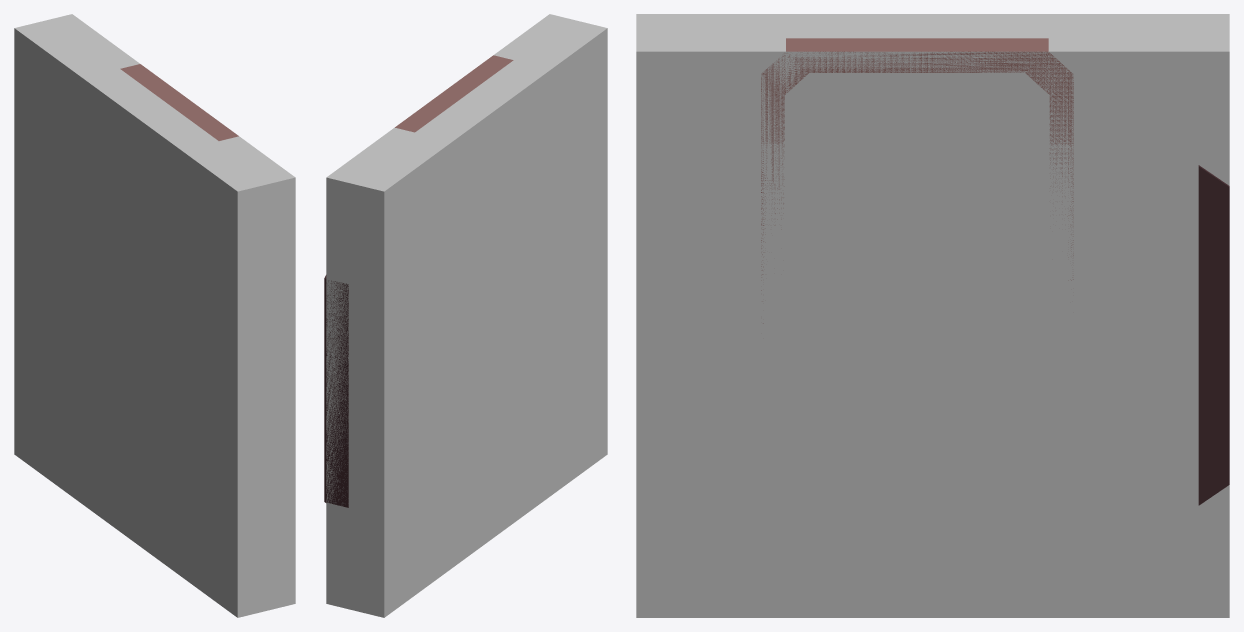
Rendered from SM_Billboard_08.fbx.
The picture shows the model from 3 angles, left to right: view 1: azimuth 30°, elevation 25°; view 2: azimuth 150°, elevation 25°; view 3: azimuth 270°, elevation 25°; orthographic projection. The views are drawn at different scales.
Visible parts, largest first — view 1: SM_Billboard_08_ConvexHulls, SM_Billboard_08; view 2: SM_Billboard_08_ConvexHulls, SM_Billboard_08; view 3: SM_Billboard_08_ConvexHulls, SM_Billboard_08.
Part boxes in pixels (x1,y1,x2,y2): SM_Billboard_08_ConvexHulls: [14, 14, 295, 617]; SM_Billboard_08: [120, 64, 238, 140]; SM_Billboard_08_ConvexHulls: [326, 14, 607, 617]; SM_Billboard_08: [324, 55, 513, 507]; SM_Billboard_08_ConvexHulls: [636, 14, 1229, 617]; SM_Billboard_08: [761, 38, 1229, 505].
Bounding box in the file's own units: 29.43 × 190 × 200.
2 materials, 1 textured.
